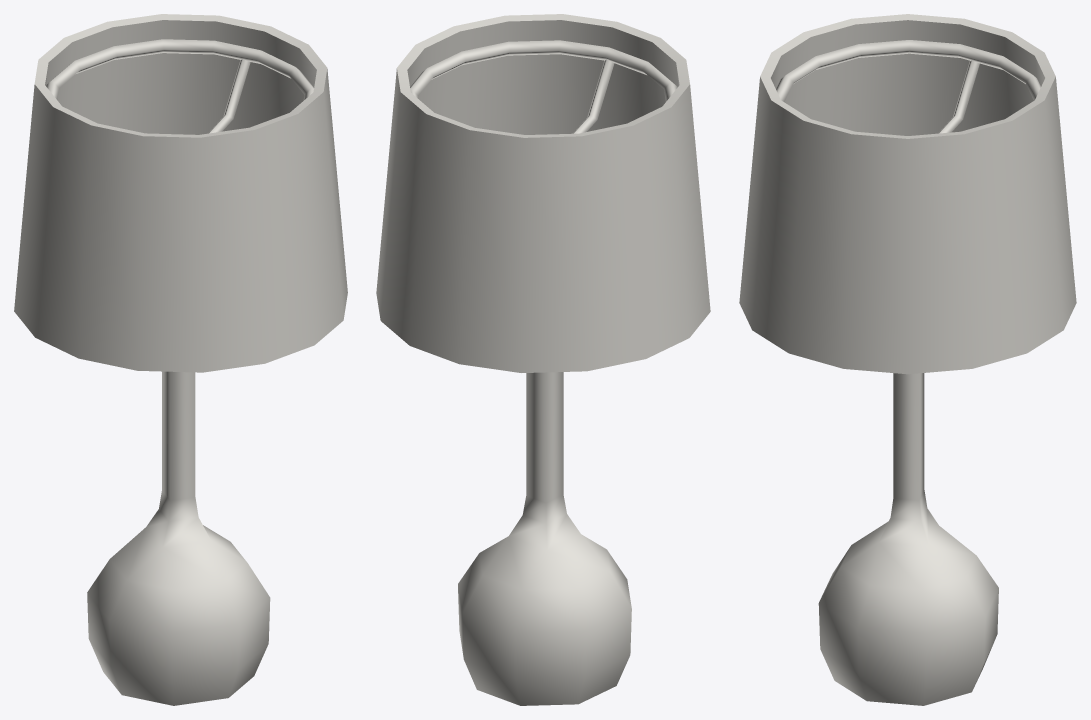
The model's file is lamp3.glb.
3 views of the same model, side by side, from view 1: azimuth 30°, elevation 25°; view 2: azimuth 150°, elevation 25°; view 3: azimuth 270°, elevation 25° (orthographic).
Parts seen in each view (by area): view 1: node_id110, node_id108; view 2: node_id110, node_id108; view 3: node_id110, node_id108.
Part boxes in pixels (x1,y1,x2,y2): node_id110: (14, 14, 347, 372); node_id108: (46, 39, 313, 705); node_id110: (376, 14, 710, 372); node_id108: (410, 40, 677, 705); node_id110: (739, 14, 1076, 374); node_id108: (775, 40, 1040, 705).
Size of the model in its own units: 0.2613 by 0.512 by 0.2613.
Materials: 2 (2 with a texture image).
